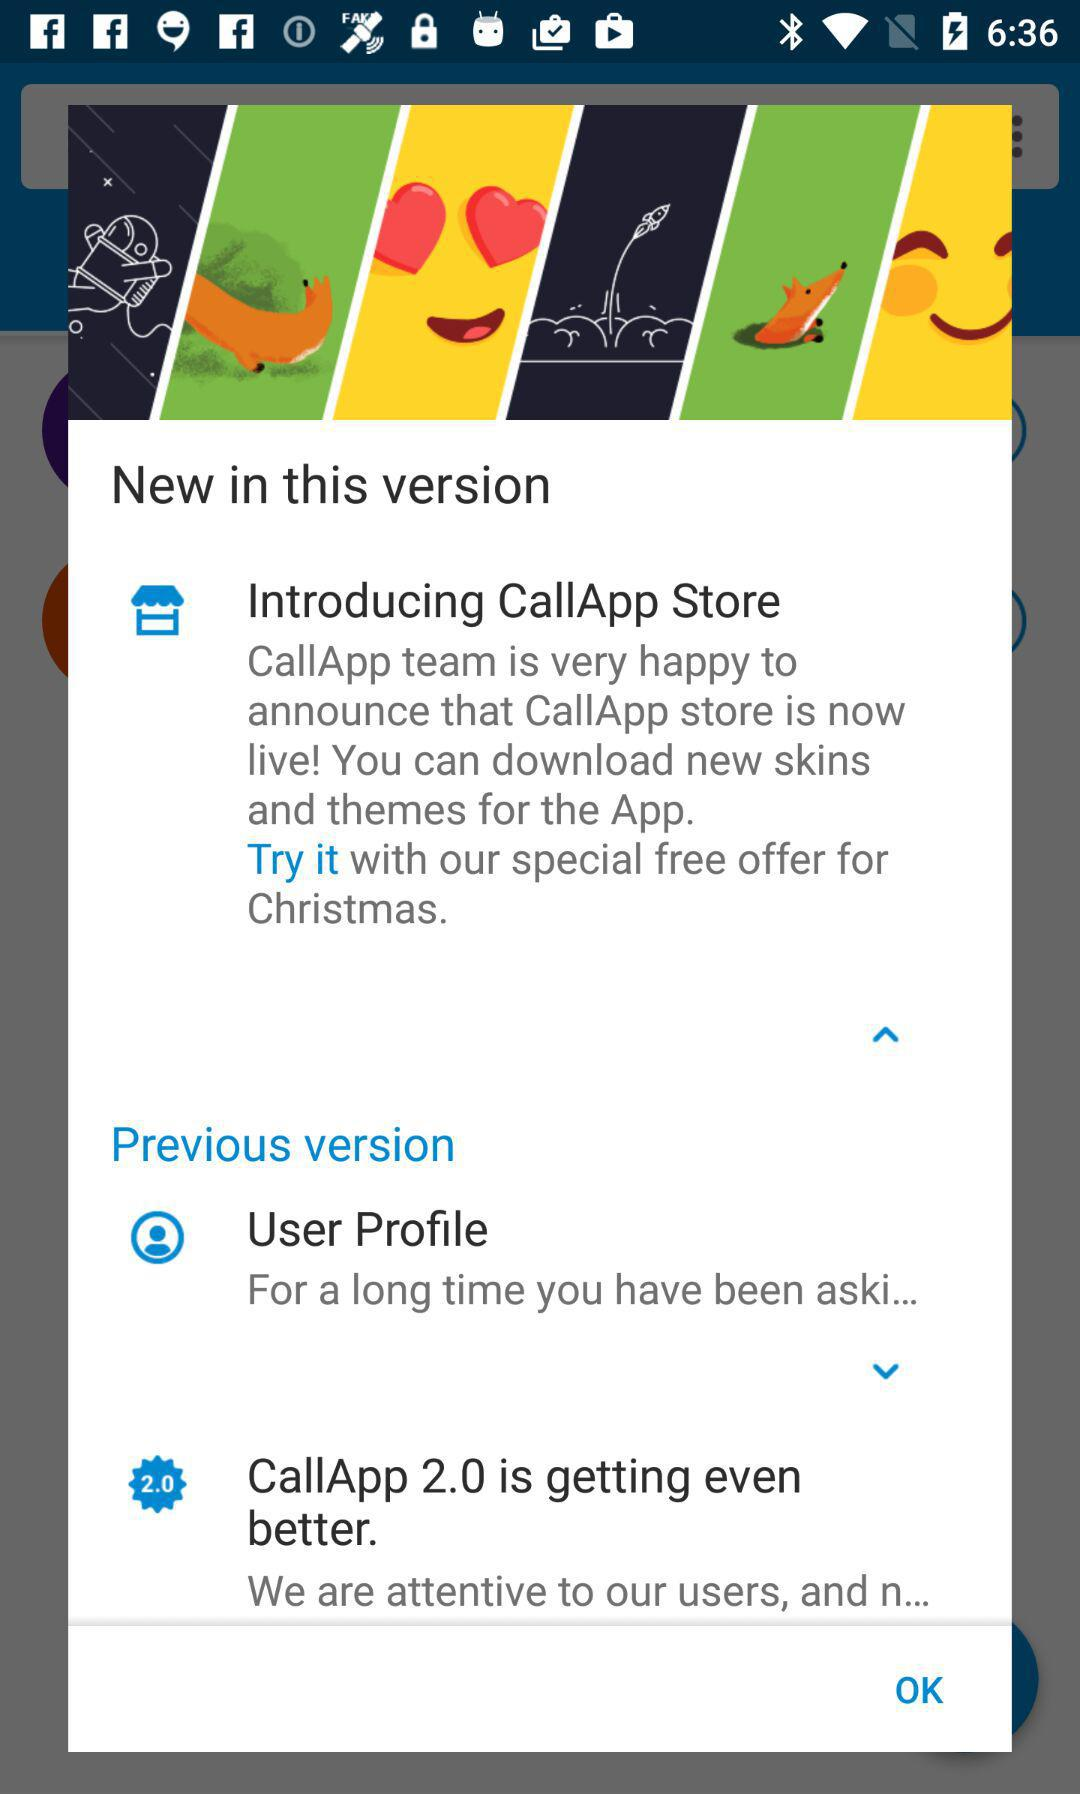Icon: (131, 1211, 186, 1265), (872, 1362, 901, 1380), (871, 1026, 899, 1044)
Image: (69, 106, 1012, 422), (128, 1454, 190, 1515), (129, 584, 186, 638)
Modal: (69, 106, 1013, 1753)
Text: (249, 580, 907, 928), (249, 1454, 802, 1548), (249, 1271, 919, 1313), (247, 1574, 930, 1615), (113, 463, 550, 506), (113, 1125, 455, 1164), (249, 1208, 489, 1248), (896, 1674, 944, 1706)
UpperTaskBar: (1, 1, 1080, 64)
